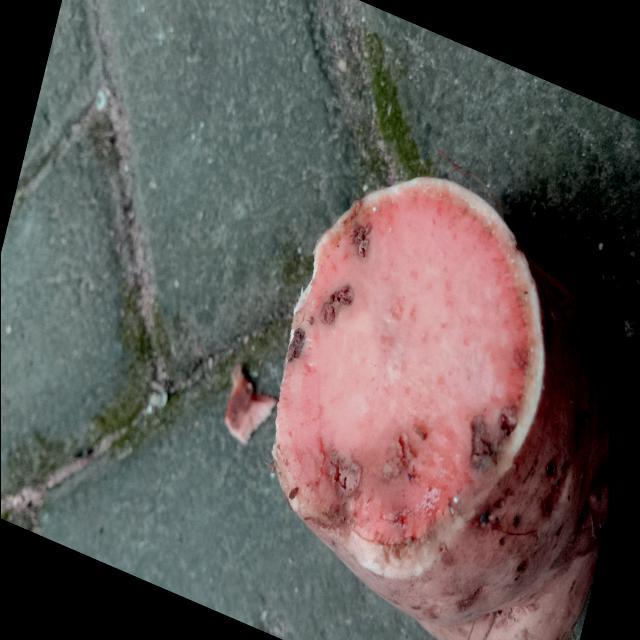Sick Sweet Potato_Tuber Rot: (274, 192, 526, 545)
